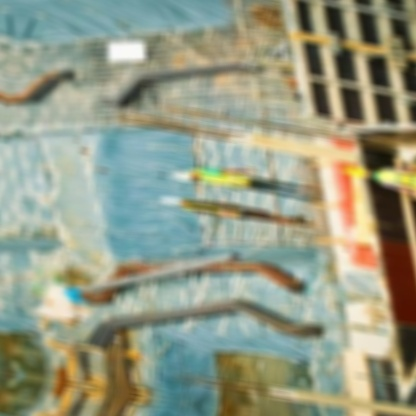vest: (191, 161, 258, 192), (368, 162, 416, 194)
